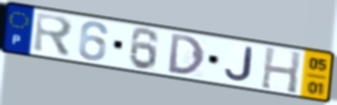6: (128, 26, 160, 72), (76, 21, 110, 62)
D: (167, 32, 207, 77)
H: (259, 45, 303, 95)
J: (223, 46, 255, 83)
R: (32, 11, 76, 59)
